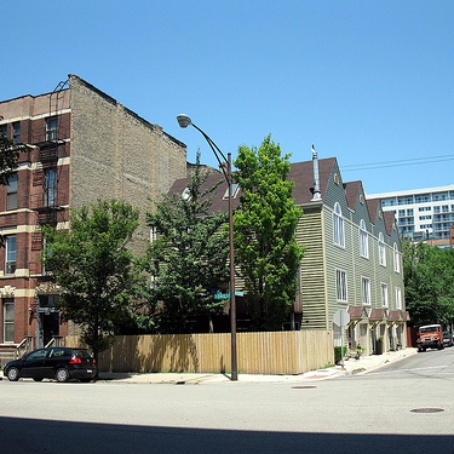building: (1, 83, 199, 371), (181, 171, 408, 361), (383, 186, 454, 254)
car: (3, 338, 103, 388)
sidewalk: (113, 345, 420, 393)
sky: (1, 1, 443, 167)
street: (1, 363, 449, 454)
